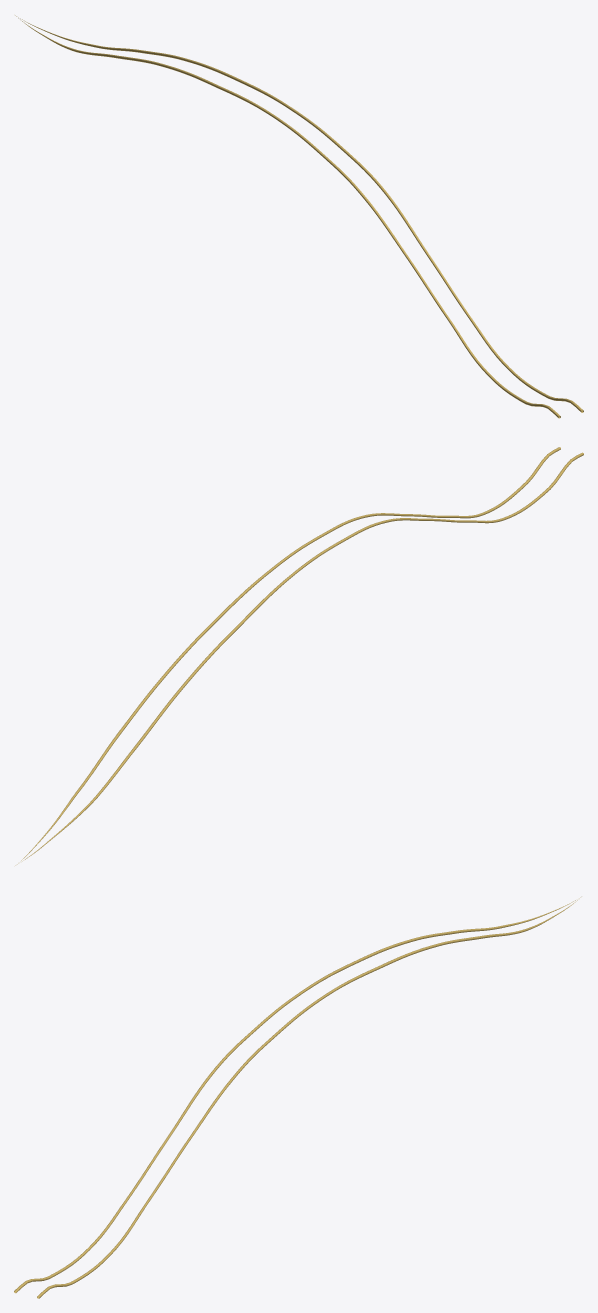
The picture shows the model from 3 angles, top to bottom: view 1: azimuth 30°, elevation 25°; view 2: azimuth 150°, elevation 25°; view 3: azimuth 330°, elevation 25°; orthographic projection.
Parts seen in each view (by area): view 1: 红核脊髓束; view 2: 红核脊髓束; view 3: 红核脊髓束.
Part boxes in pixels (x1,y1,x2,y2): 红核脊髓束: (15,15,583,418); 红核脊髓束: (15,447,583,865); 红核脊髓束: (14,897,580,1298).
Size of the model in its own units: 0.019 by 0.0758 by 0.7214.
